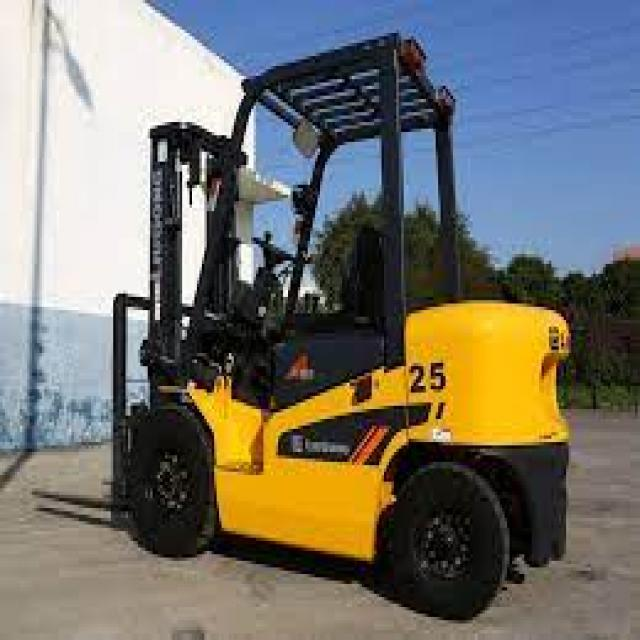Chariot elevateur: (96, 23, 581, 627)
